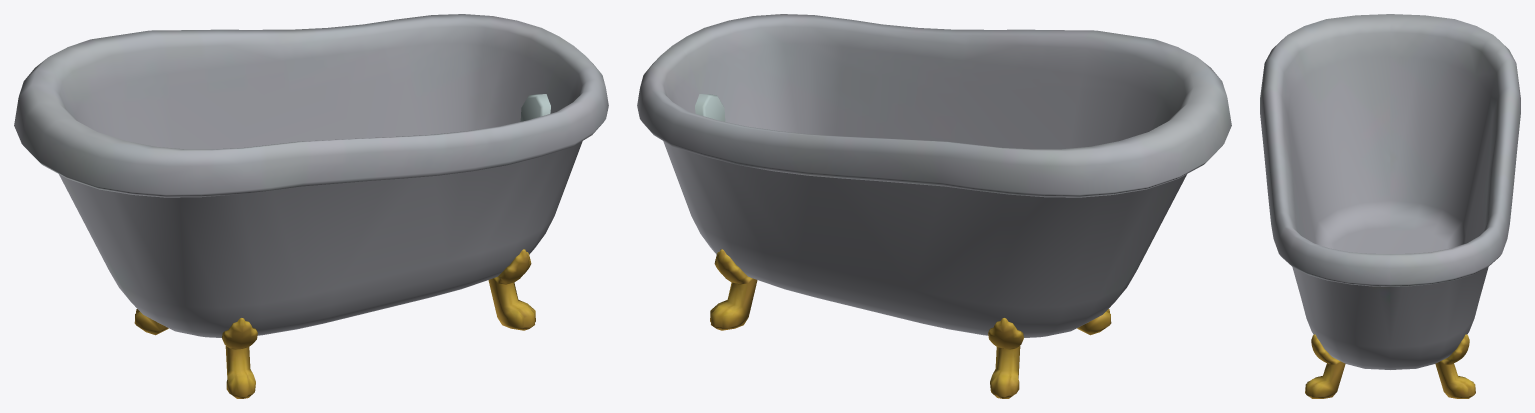
3 views of the same model, side by side, from view 1: azimuth 30°, elevation 25°; view 2: azimuth 150°, elevation 25°; view 3: azimuth 270°, elevation 25° (orthographic). The views are drawn at different scales.
Bounding box in the file's own units: 17.22 × 8.35 × 8.96.
Materials: 1 (1 with a texture image).
